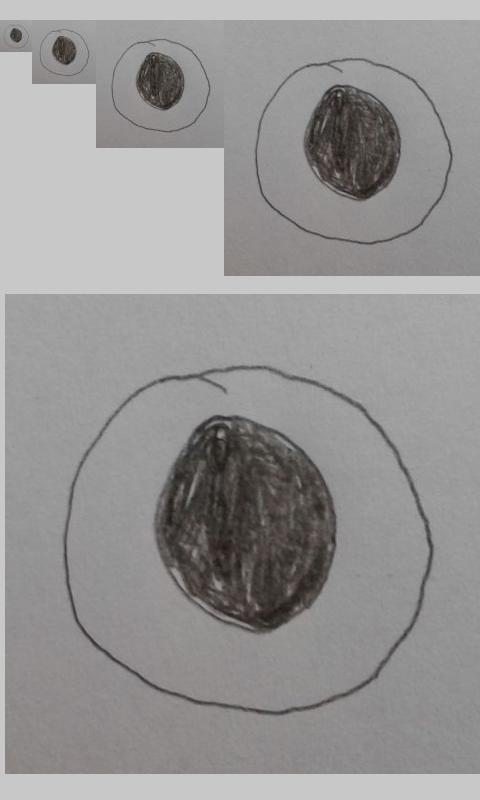radio_button: (58, 361, 438, 718), (253, 56, 454, 247), (110, 37, 212, 133), (38, 27, 91, 78), (2, 23, 30, 50)
